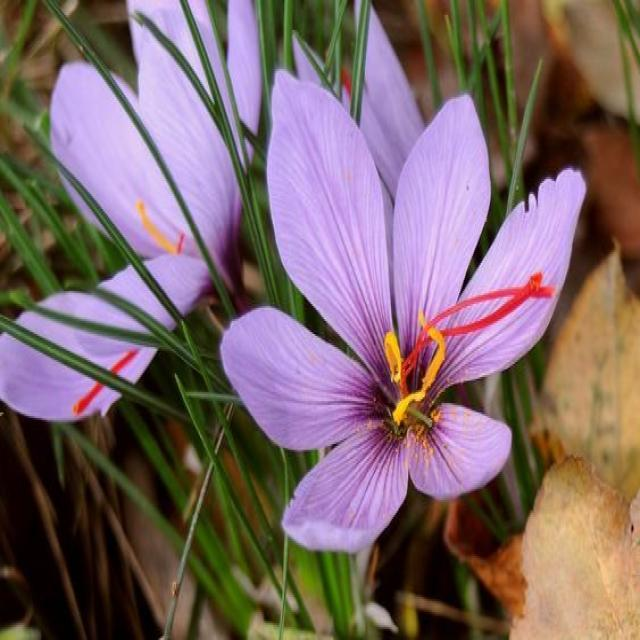Flower: (221, 72, 585, 551)
stigma: (412, 282, 560, 354), (420, 268, 549, 348)
